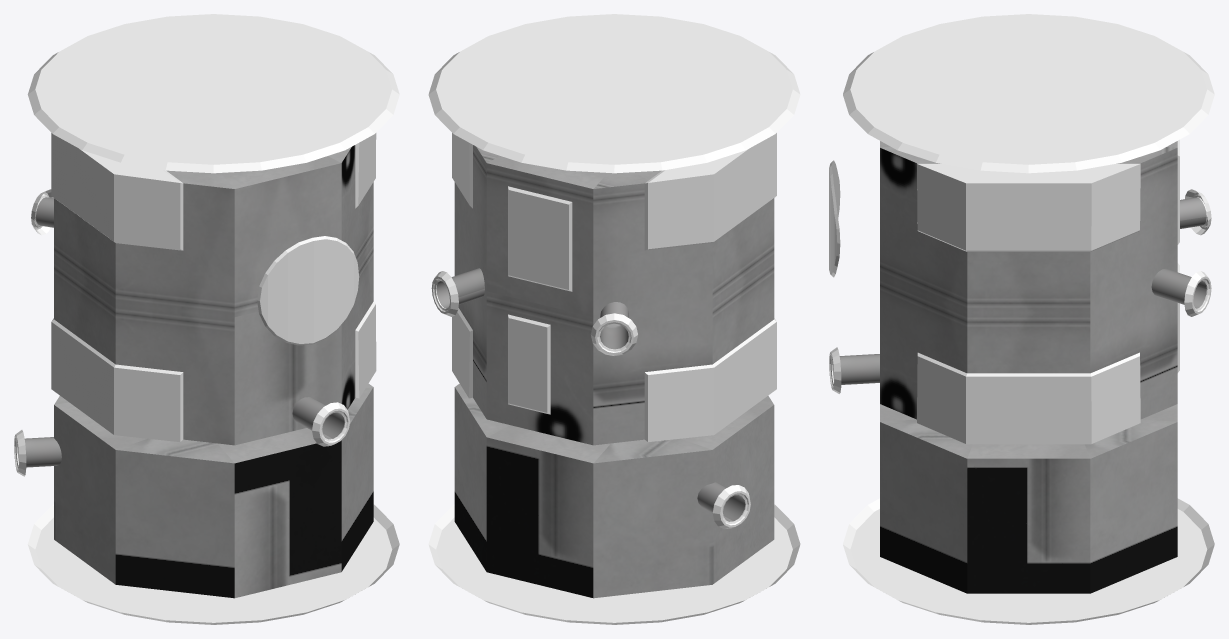
File: mol_iva_main_lab.obj
3 views of the same model, side by side, from view 1: azimuth 30°, elevation 25°; view 2: azimuth 150°, elevation 25°; view 3: azimuth 270°, elevation 25° (orthographic).
Visible parts, largest first — view 1: i1, im1; view 2: i1, im1; view 3: im1, i1.
Part boxes in pixels (box(x1,y1,x2,y2)): i1: box(17, 145, 373, 598); im1: box(14, 14, 399, 624); i1: box(436, 145, 774, 598); im1: box(428, 14, 800, 624); im1: box(829, 14, 1214, 624); i1: box(832, 141, 1206, 593).
Bounding box in the file's own units: 1.9 × 2.56 × 1.94.
